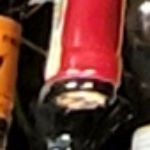bottle: (33, 56, 134, 128)
